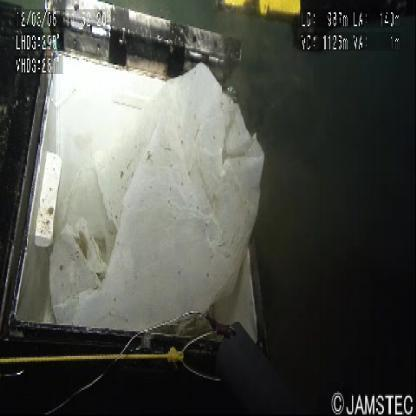Rác: (42, 57, 270, 333)
